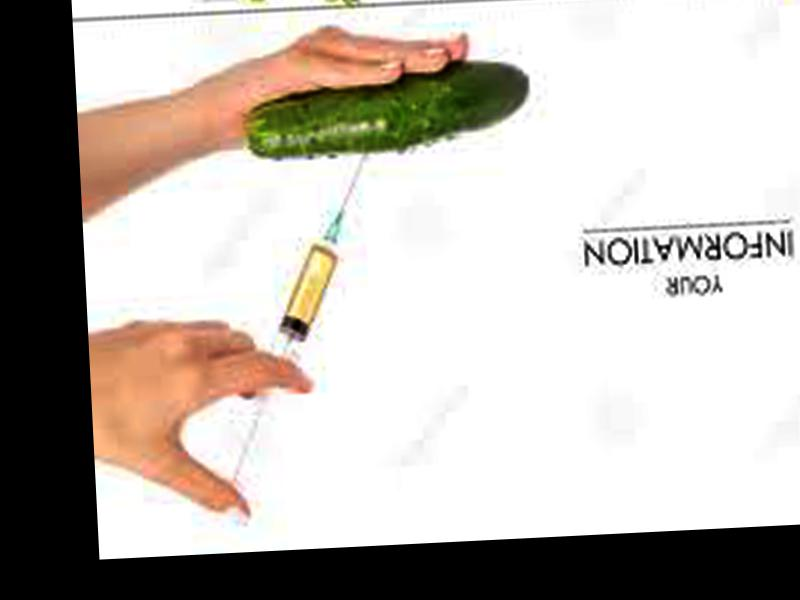Cucumber: (242, 60, 531, 158)
